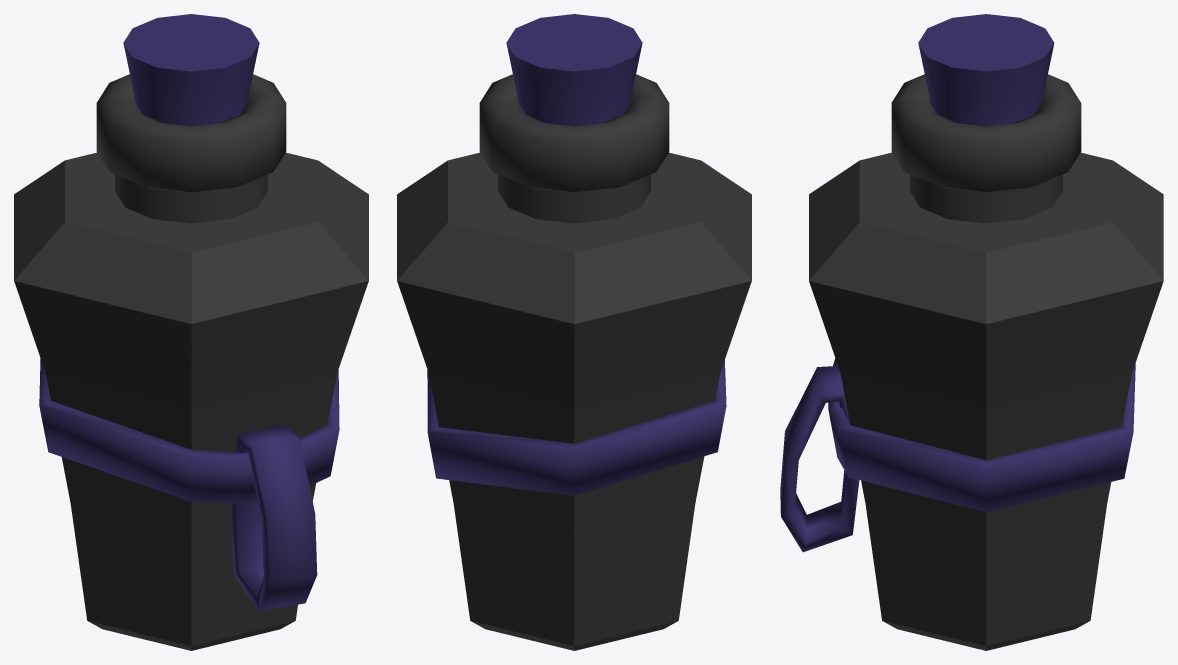
The model's file is Consumable_Potion_01.FBX.
3 renders of one model, left to right at view 1: azimuth 30°, elevation 25°; view 2: azimuth 150°, elevation 25°; view 3: azimuth 270°, elevation 25°, orthographic.
Visible parts, largest first — view 1: Consumable_Potion_01; view 2: Consumable_Potion_01; view 3: Consumable_Potion_01.
Boxes of the visible parts, box(x1,y1,x2,y2) form: Consumable_Potion_01: box(14, 14, 368, 650); Consumable_Potion_01: box(397, 14, 751, 650); Consumable_Potion_01: box(780, 14, 1163, 650).
Size of the model in its own units: 0.2259 by 0.3436 by 0.2114.
